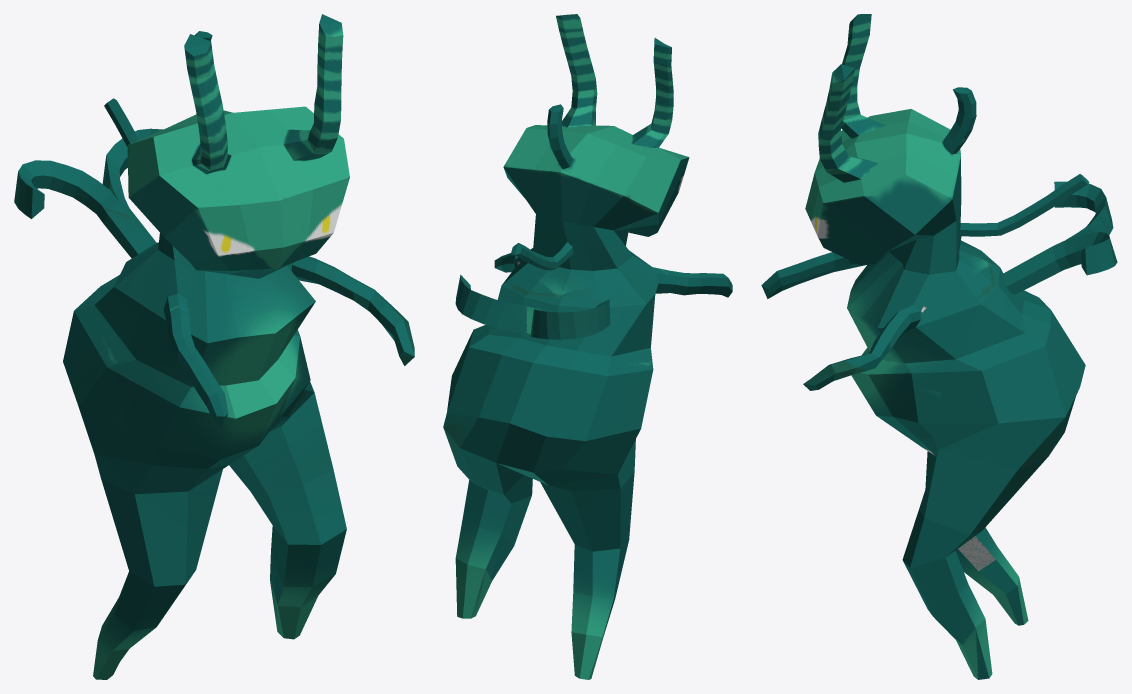
File: monstruo1_caminar_46.obj
3 views of the same model, side by side, from view 1: azimuth 30°, elevation 25°; view 2: azimuth 150°, elevation 25°; view 3: azimuth 270°, elevation 25° (orthographic). The views are drawn at different scales.
Parts seen in each view (by area): view 1: Monstruo_basico; view 2: Monstruo_basico; view 3: Monstruo_basico.
Boxes of the visible parts, <box> form: Monstruo_basico: <box>14,14,414,679</box>; Monstruo_basico: <box>443,14,732,679</box>; Monstruo_basico: <box>761,14,1117,679</box>.
Size of the model in its own units: 0.3796 by 1.02 by 0.5424.
